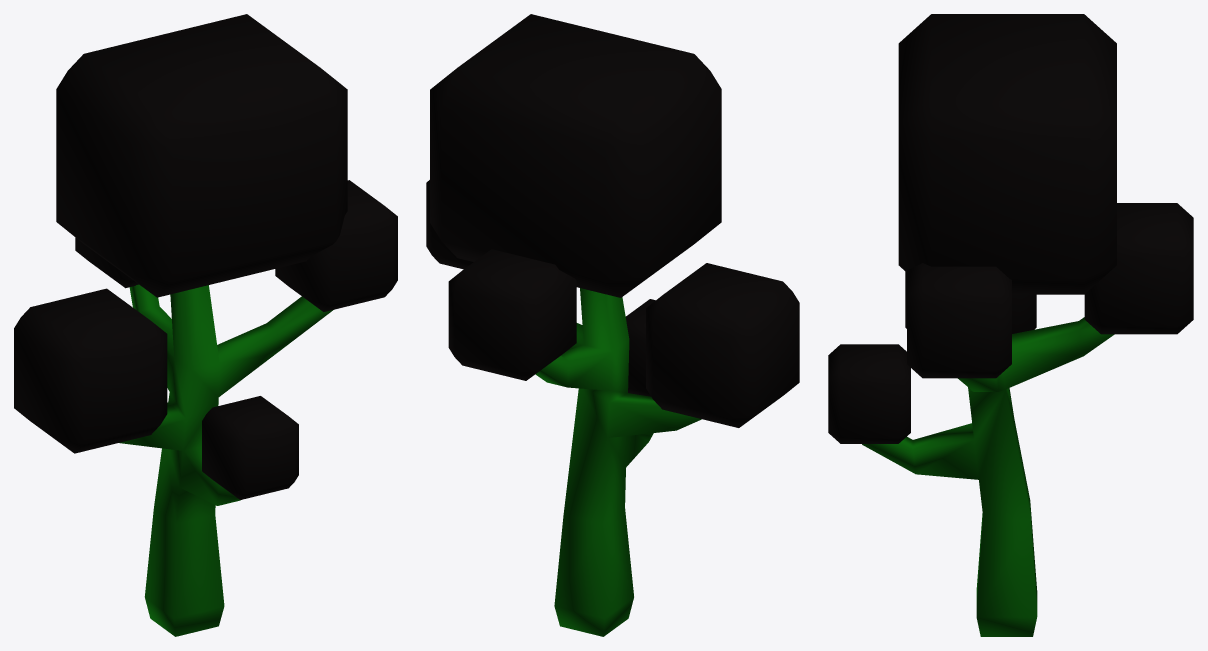
File: Tree-Detailed.fbx
The picture shows the model from 3 angles, left to right: view 1: azimuth 30°, elevation 25°; view 2: azimuth 150°, elevation 25°; view 3: azimuth 270°, elevation 25°; orthographic projection. The views are drawn at different scales.
Visible parts, largest first — view 1: Tree-Detailed; view 2: Tree-Detailed; view 3: Tree-Detailed.
Boxes of the visible parts, box(x1,y1,x2,y2) form: Tree-Detailed: box(14, 14, 397, 636); Tree-Detailed: box(426, 14, 799, 636); Tree-Detailed: box(828, 14, 1193, 636).
Size of the model in its own units: 254 by 228 by 400.
